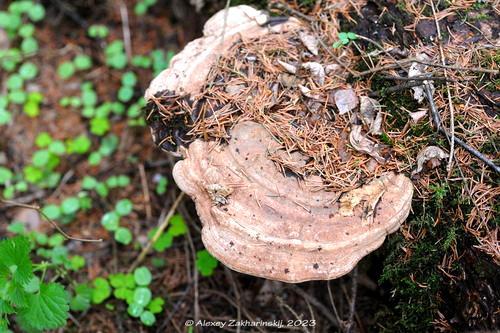Ganoderma - Fruit Body: (147, 2, 414, 285)
